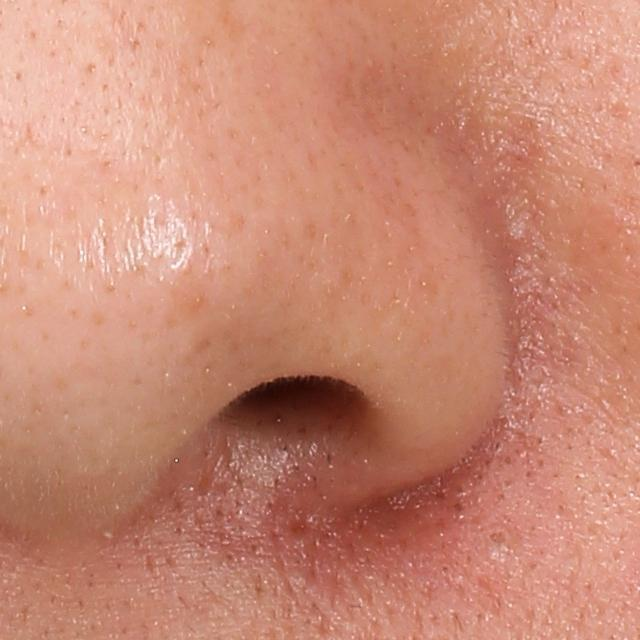comedo: (481, 524, 515, 554)
